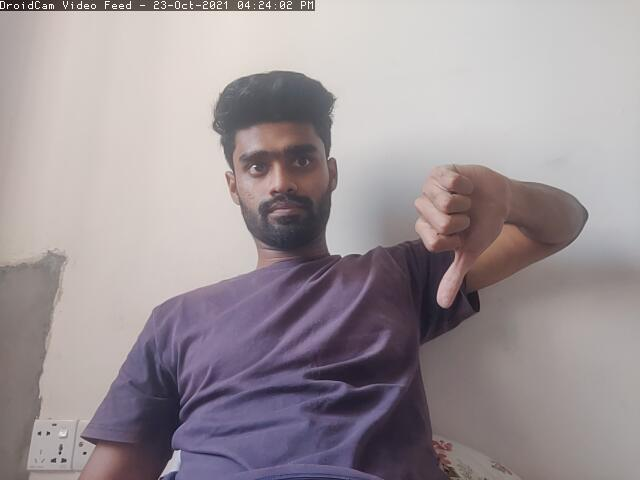ThumbsDown: (409, 149, 512, 309)
